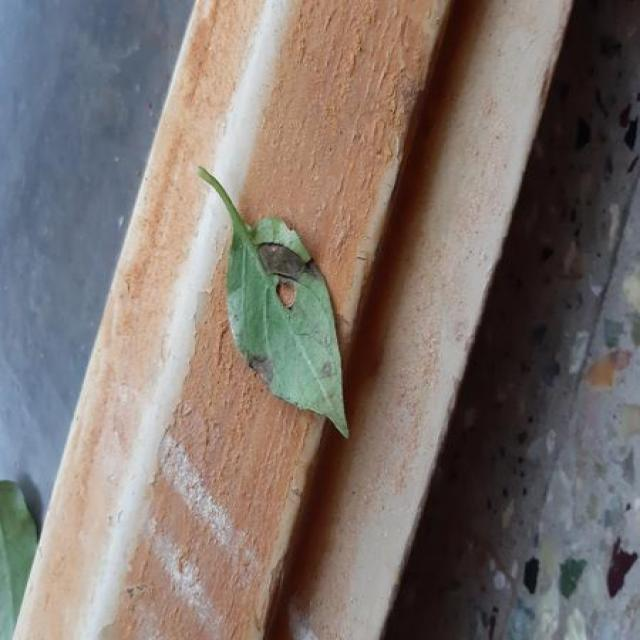leaf curl: (198, 168, 347, 437)
